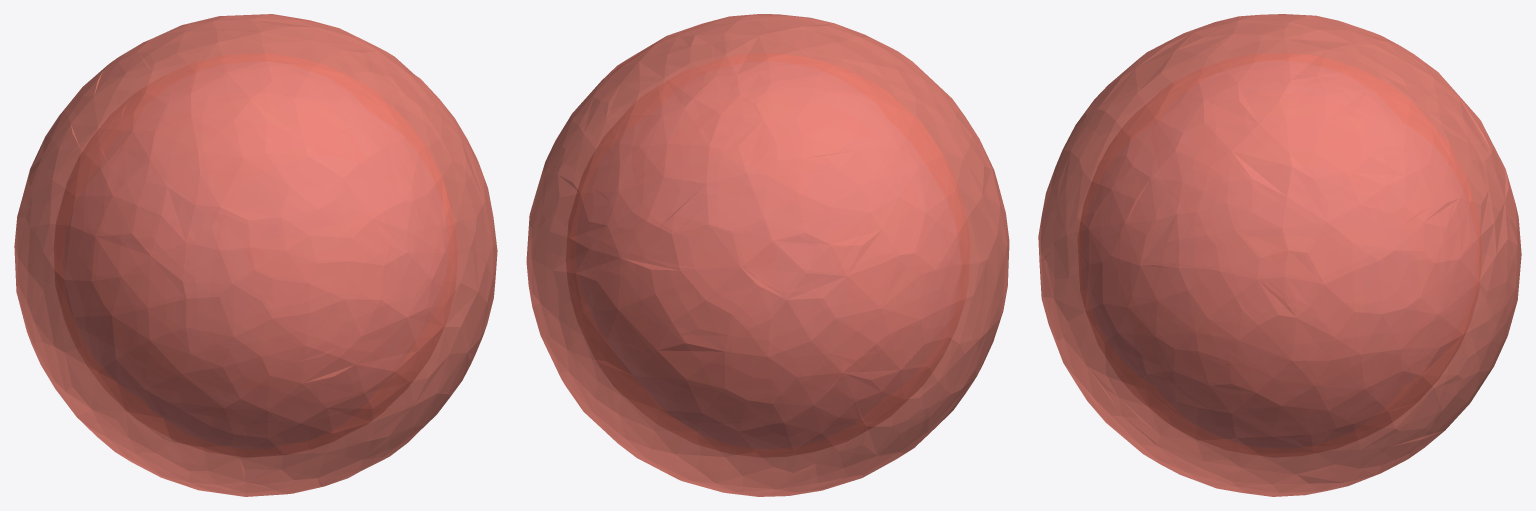
3 renders of one model, left to right at view 1: azimuth 30°, elevation 25°; view 2: azimuth 150°, elevation 25°; view 3: azimuth 270°, elevation 25°, orthographic.
Visible parts, largest first — view 1: Ho_n6_s_ml0_node, Ho_n5_s_ml0_node; view 2: Ho_n6_s_ml0_node, Ho_n5_s_ml0_node; view 3: Ho_n6_s_ml0_node, Ho_n5_s_ml0_node.
Boxes of the visible parts, bbox=[...] form: Ho_n6_s_ml0_node: bbox=[14, 14, 497, 496]; Ho_n5_s_ml0_node: bbox=[54, 53, 457, 457]; Ho_n6_s_ml0_node: bbox=[526, 14, 1009, 496]; Ho_n5_s_ml0_node: bbox=[566, 53, 969, 457]; Ho_n6_s_ml0_node: bbox=[1038, 14, 1521, 496]; Ho_n5_s_ml0_node: bbox=[1078, 53, 1481, 457].
Size of the model in its own units: 3.06 by 3.06 by 3.06.
